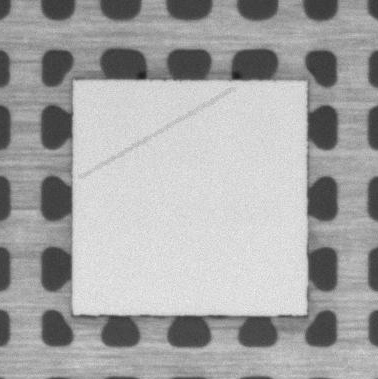DIE_CRACK: (81, 89, 232, 177)
